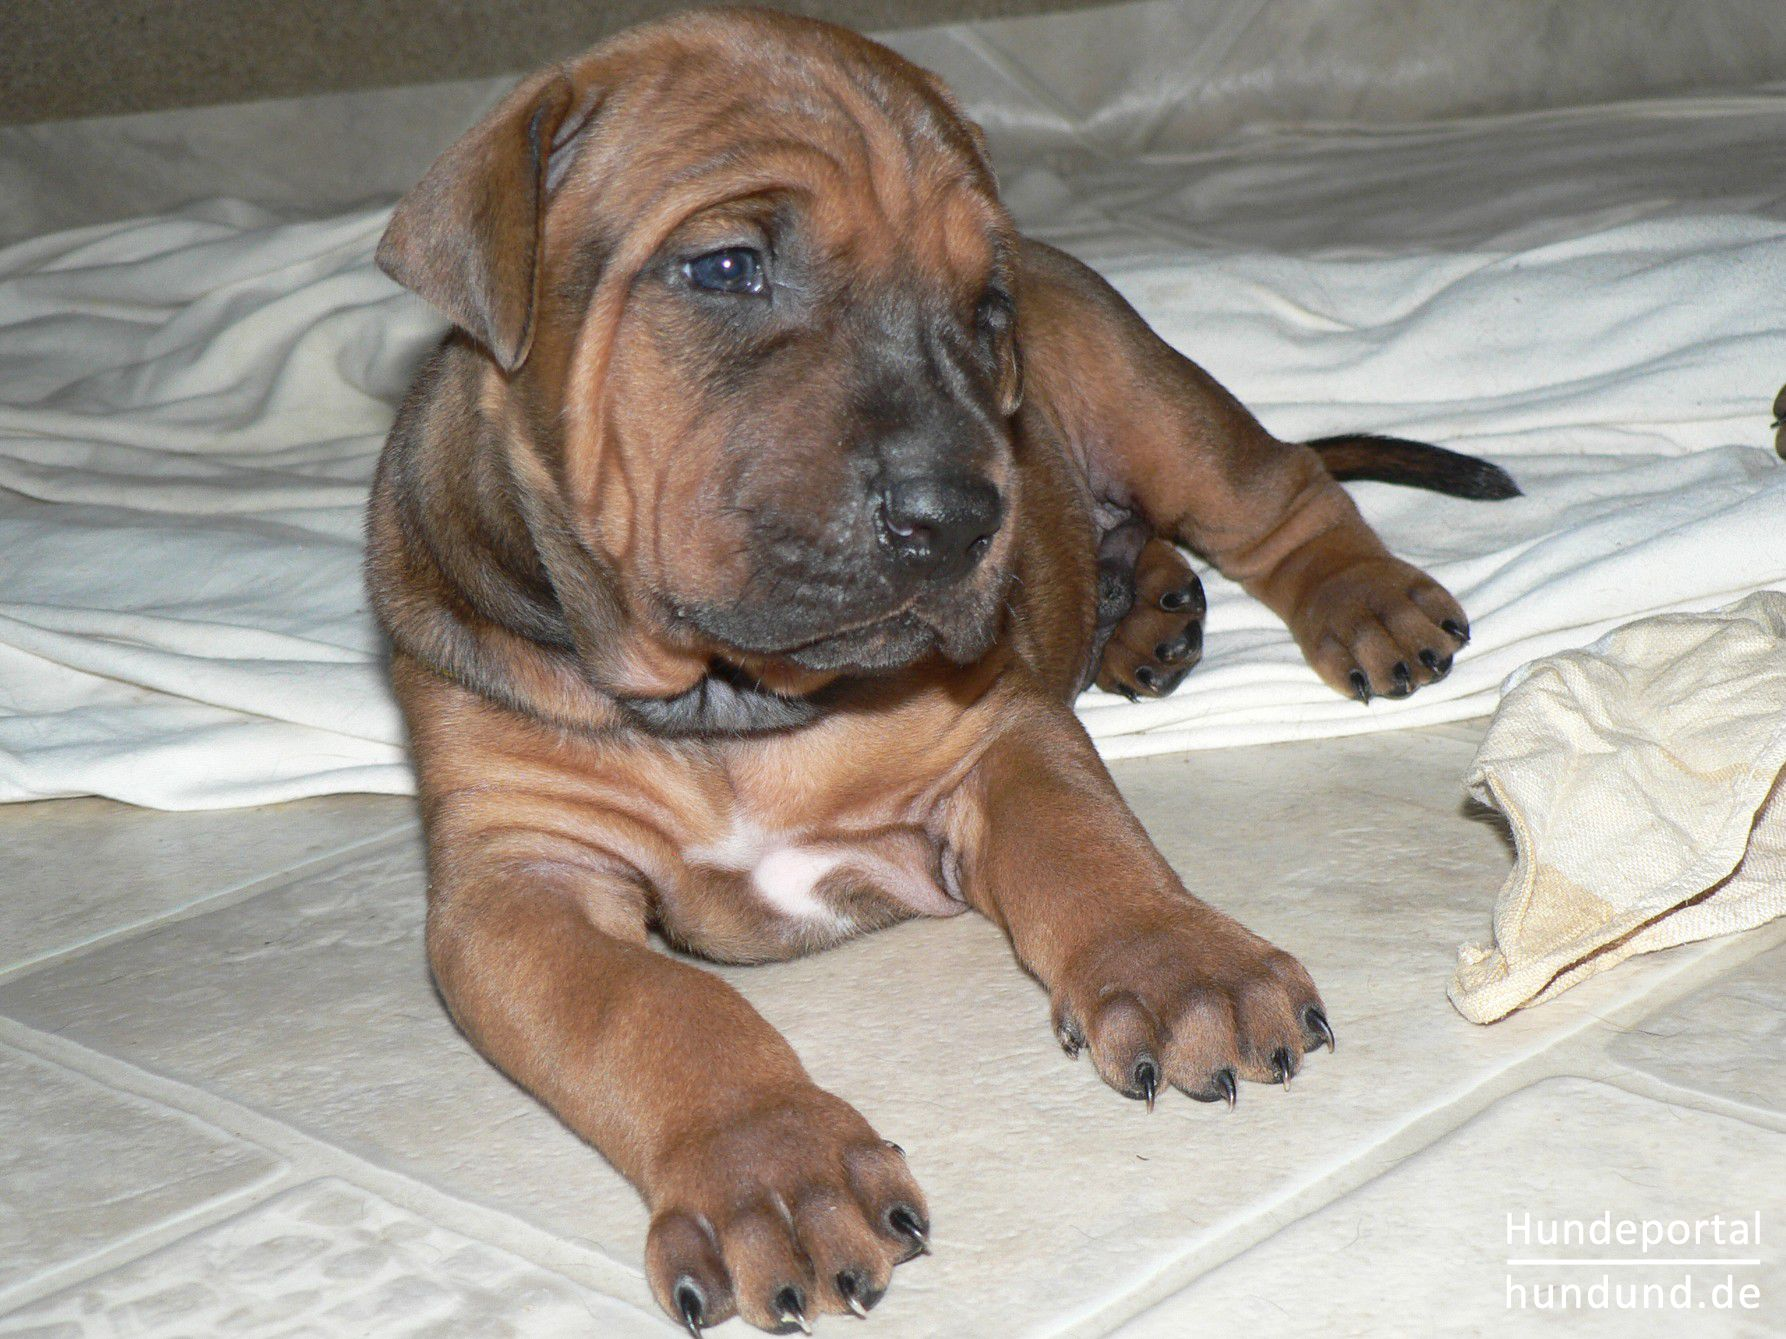tosa_inu: (361, 0, 1529, 1339)
